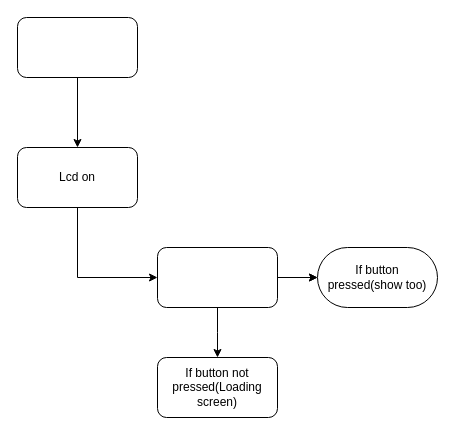
This 455x435 diagram has some shape labels left out. Each missing label, with the centre of its shape:
"Start code" belongs at pixel 77 47.
"Wait for button 1&2 input" belongs at pixel 217 277.
